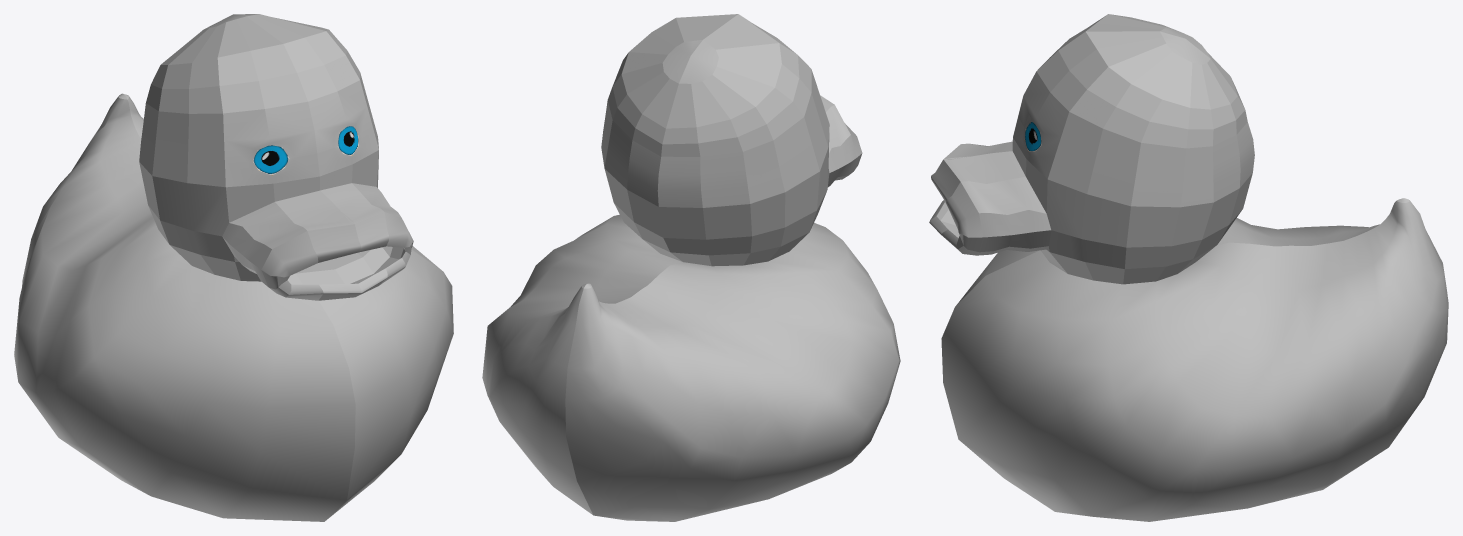
The model's file is Duck_MDL_V1_005 fbx.fbx.
The picture shows the model from 3 angles, left to right: view 1: azimuth 30°, elevation 25°; view 2: azimuth 150°, elevation 25°; view 3: azimuth 270°, elevation 25°; orthographic projection. The views are drawn at different scales.
Visible parts, largest first — view 1: side6; view 2: side6; view 3: side6.
Part boxes in pixels (x1,y1,x2,y2): side6: (14, 14, 453, 521); side6: (482, 14, 900, 521); side6: (929, 14, 1448, 521).
Size of the model in its own units: 4.97 by 5.64 by 5.82.
